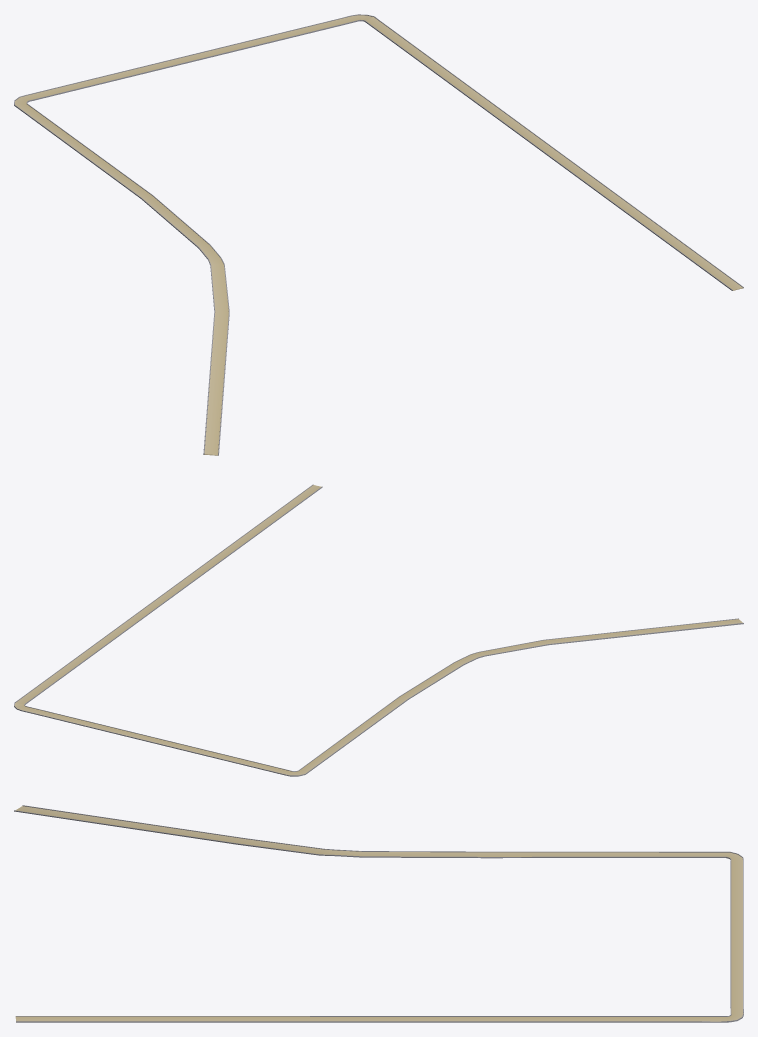
File: sidewalk_22.fbx
3 views of the same model, one above another, from view 1: azimuth 30°, elevation 25°; view 2: azimuth 150°, elevation 25°; view 3: azimuth 270°, elevation 25° (orthographic). The views are drawn at different scales.
Visible parts, largest first — view 1: sidewalk_21; view 2: sidewalk_21; view 3: sidewalk_21.
Part boxes in pixels (left/top/right/bottom): sidewalk_21: left=14, top=14, right=743, bottom=455; sidewalk_21: left=14, top=484, right=743, bottom=776; sidewalk_21: left=14, top=805, right=743, bottom=1022.
Bounding box in the file's own units: 12.83 × 0.9079 × 15.62.
Materials: 1 (1 with a texture image).
